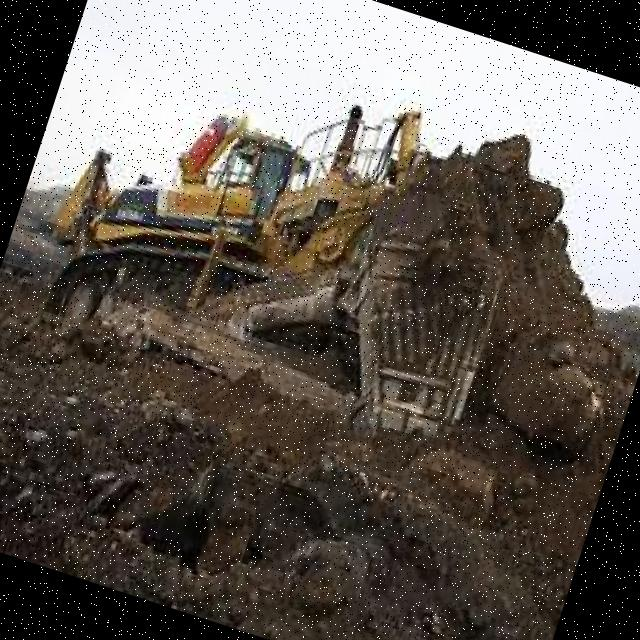Bulldozer: (0, 0, 636, 553)
